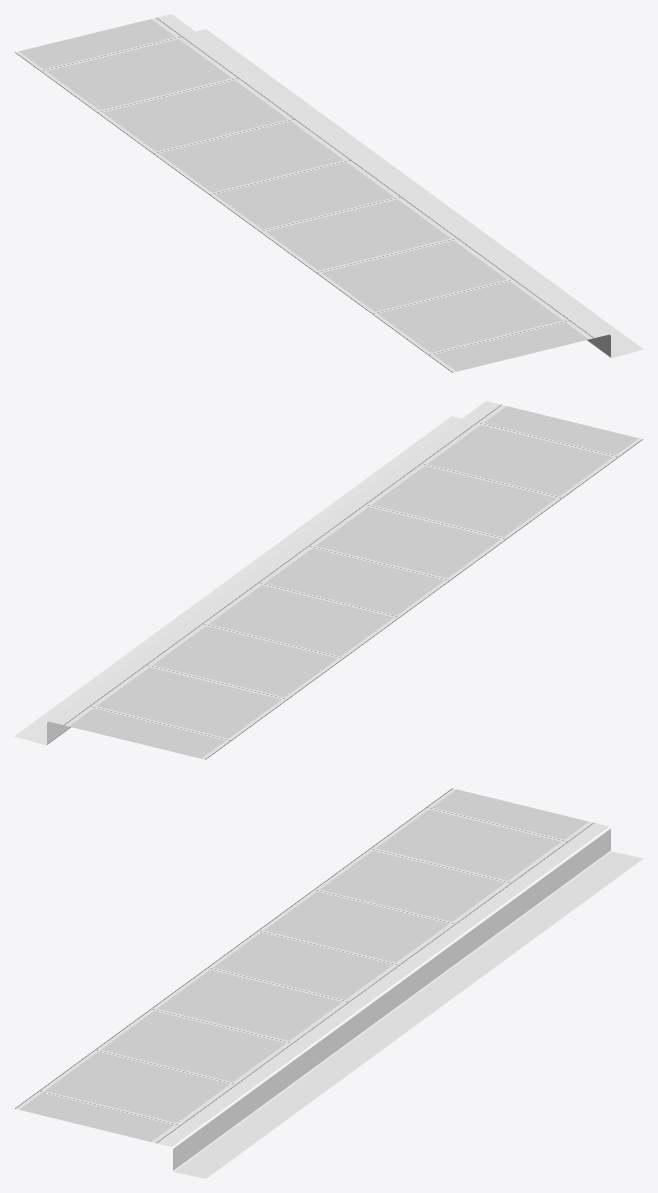
Rendered from StreetCurb01.fbx.
3 views of the same model, one above another, from view 1: azimuth 30°, elevation 25°; view 2: azimuth 150°, elevation 25°; view 3: azimuth 330°, elevation 25° (orthographic).
Visible parts, largest first — view 1: StreetCurb01; view 2: StreetCurb01; view 3: StreetCurb01.
Boxes of the visible parts, x1,y1,x2,y2 form: StreetCurb01: (14, 14, 643, 372); StreetCurb01: (14, 401, 643, 759); StreetCurb01: (14, 788, 643, 1178).
Bounding box in the file's own units: 507 × 61.71 × 2000.
2 materials, 2 textured.
